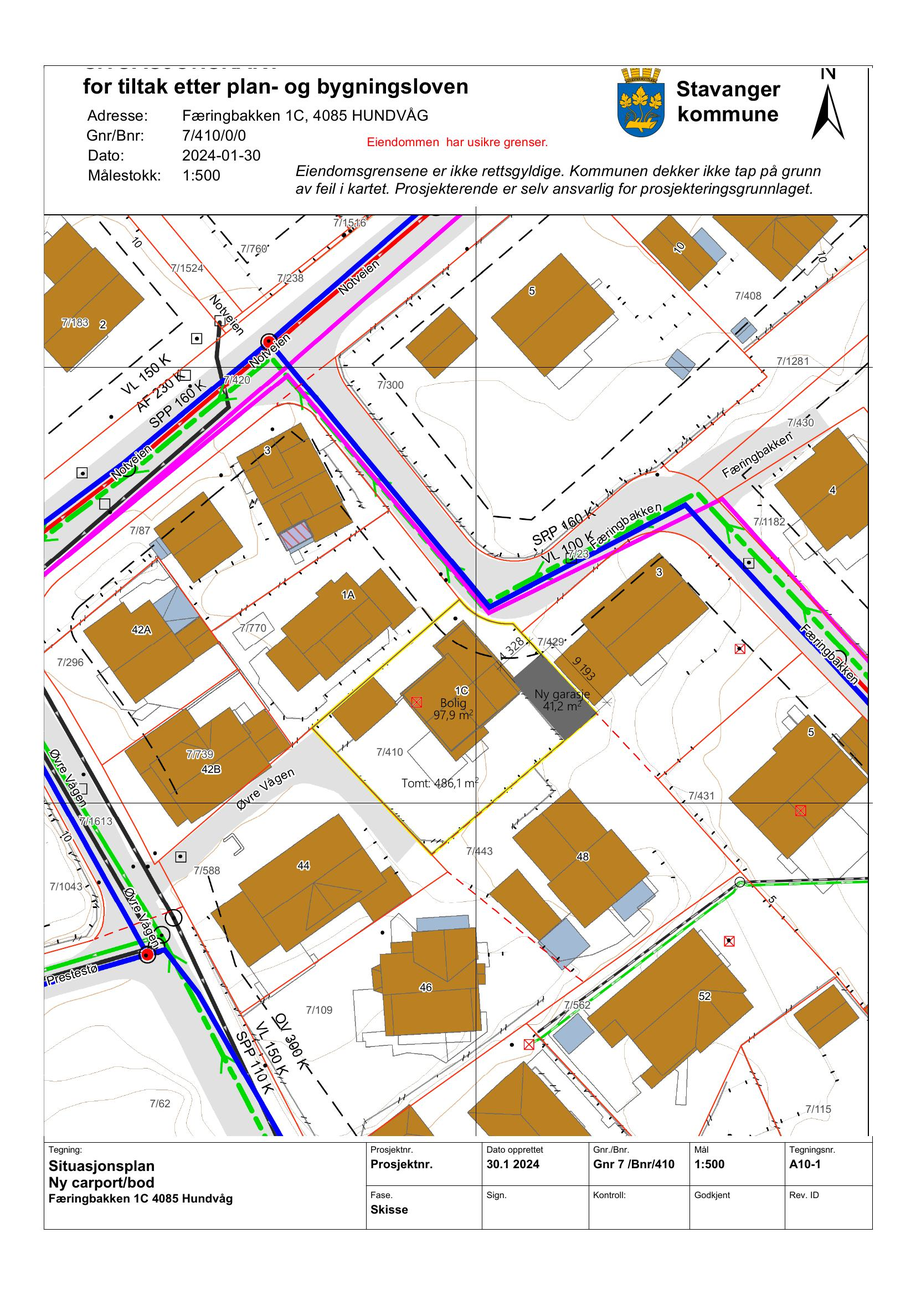situasjonskart: (45, 216, 872, 1140)
